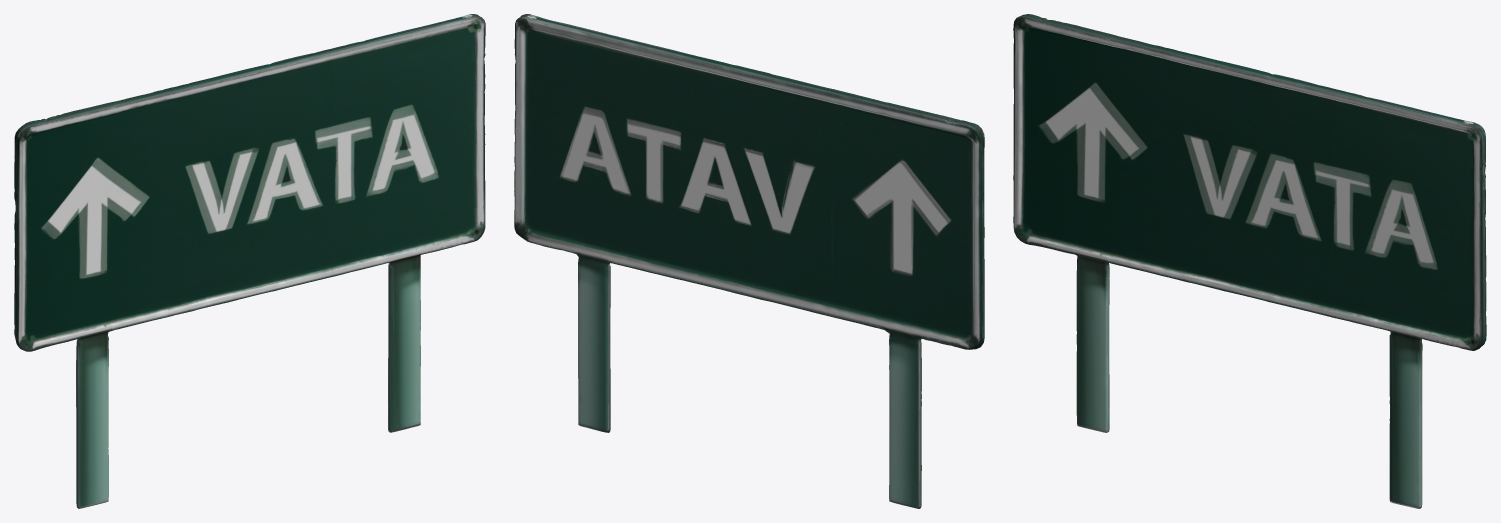
Rendered from vata.glb.
The picture shows the model from 3 angles, left to right: view 1: azimuth 30°, elevation 25°; view 2: azimuth 150°, elevation 25°; view 3: azimuth 330°, elevation 25°; orthographic projection.
Bounding box in the file's own units: 2 × 1.63 × 0.0379.
1 material, 1 textured.
